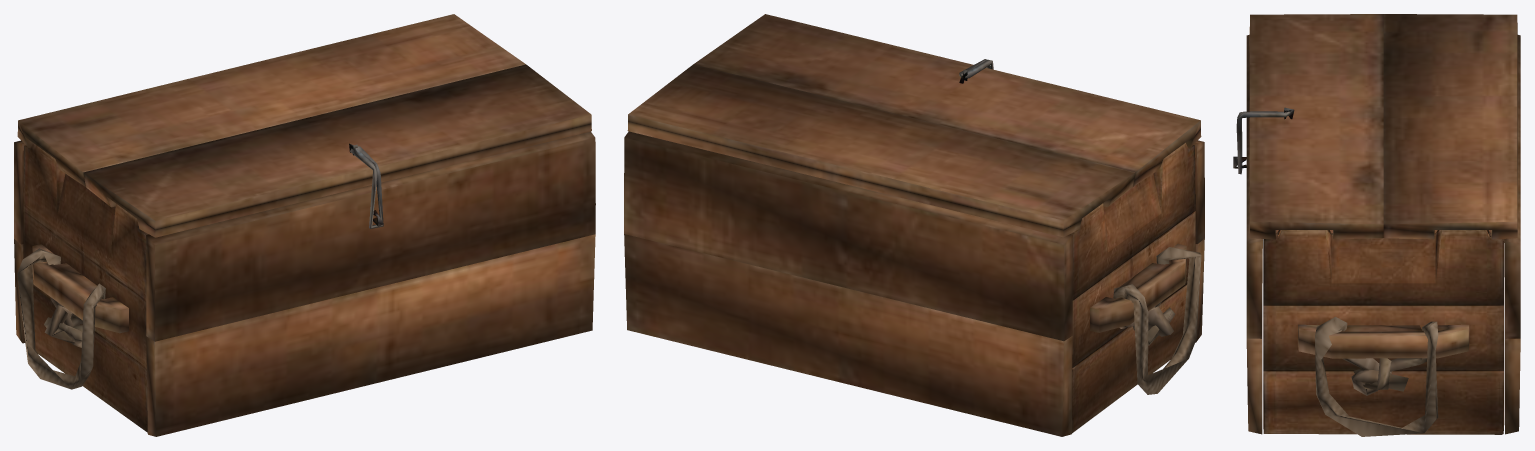
File: wooden_crate_01.glb
3 views of the same model, side by side, from view 1: azimuth 30°, elevation 25°; view 2: azimuth 150°, elevation 25°; view 3: azimuth 270°, elevation 25° (orthographic). The views are drawn at different scales.
Parts seen in each view (by area): view 1: wooden_crate_01, wooden_crate_01_lid, wooden_crate_01_latch; view 2: wooden_crate_01, wooden_crate_01_lid; view 3: wooden_crate_01_lid, wooden_crate_01, wooden_crate_01_latch.
Boxes of the visible parts, box(x1,y1,x2,y2) form: wooden_crate_01: box(14, 131, 595, 436); wooden_crate_01_lid: box(17, 14, 591, 237); wooden_crate_01_latch: box(350, 146, 383, 228); wooden_crate_01: box(624, 131, 1204, 436); wooden_crate_01_lid: box(627, 14, 1201, 237); wooden_crate_01_lid: box(1249, 14, 1517, 239); wooden_crate_01: box(1233, 34, 1520, 436); wooden_crate_01_latch: box(1236, 111, 1290, 174).
Size of the model in its own units: 0.8245 by 0.3469 by 0.4043.
1 material, 1 textured.
